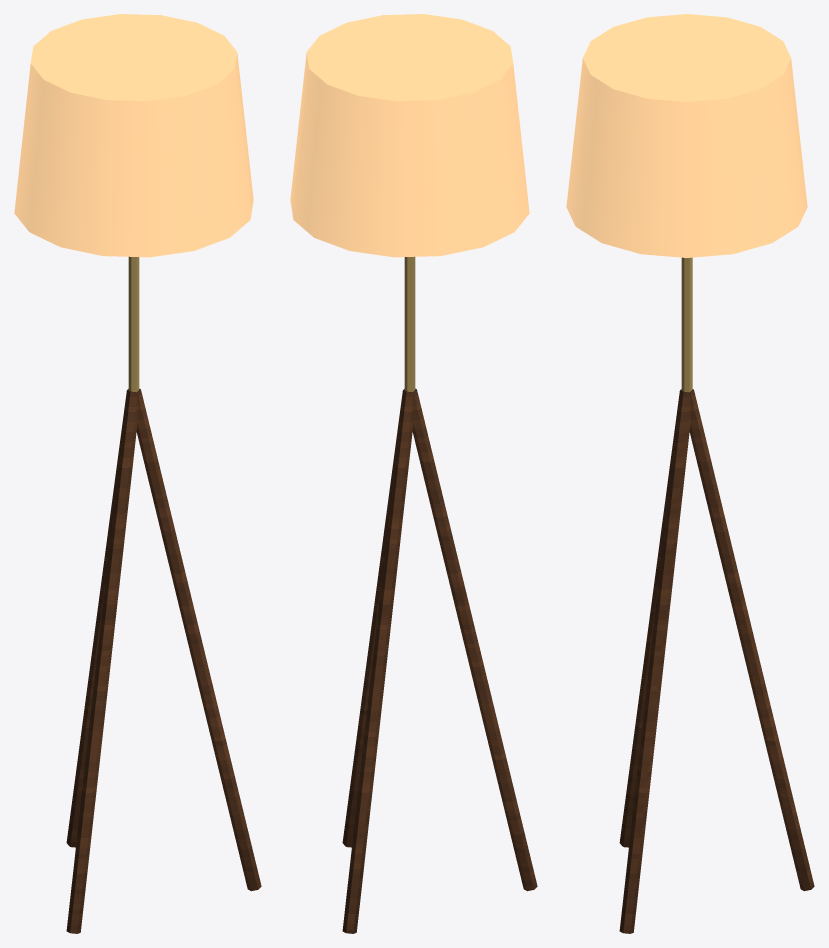
The model's file is floor_lamp.glb.
3 renders of one model, left to right at view 1: azimuth 30°, elevation 25°; view 2: azimuth 150°, elevation 25°; view 3: azimuth 270°, elevation 25°, orthographic.
Visible parts, largest first — view 1: noshadow, body; view 2: noshadow, body; view 3: noshadow, body.
Boxes of the visible parts, bbox=[...] form: noshadow: bbox=[14, 14, 253, 257]; body: bbox=[66, 256, 261, 933]; noshadow: bbox=[290, 14, 529, 257]; body: bbox=[342, 256, 537, 933]; noshadow: bbox=[566, 14, 807, 257]; body: bbox=[619, 257, 814, 933].
Size of what is drawn, in the model's own units: 0.44 by 1.67 by 0.4527.
Materials: 3 (1 with a texture image).
